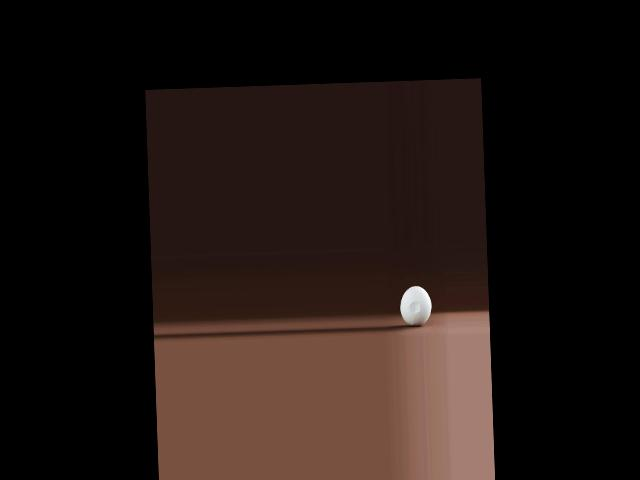egg: (399, 285, 431, 326)
